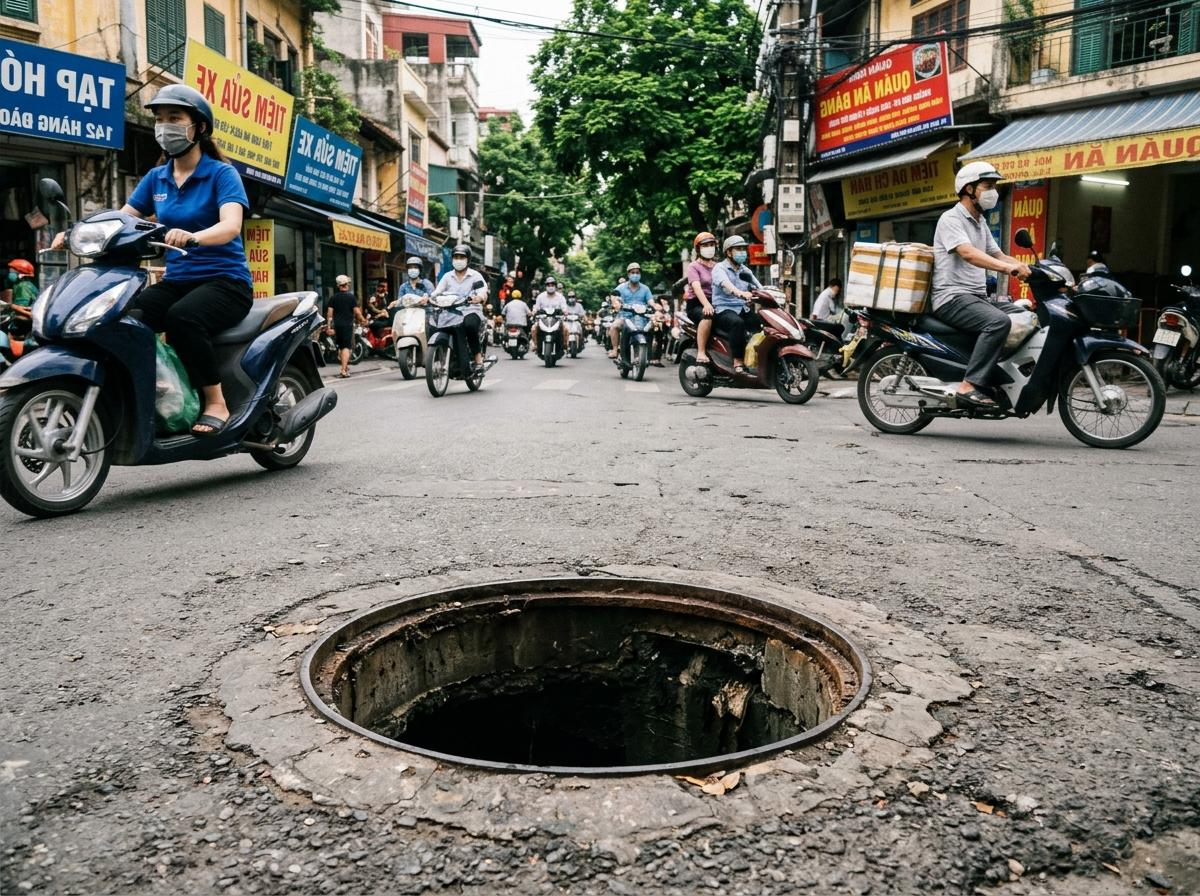POTHOLE: (360, 457, 792, 762)
